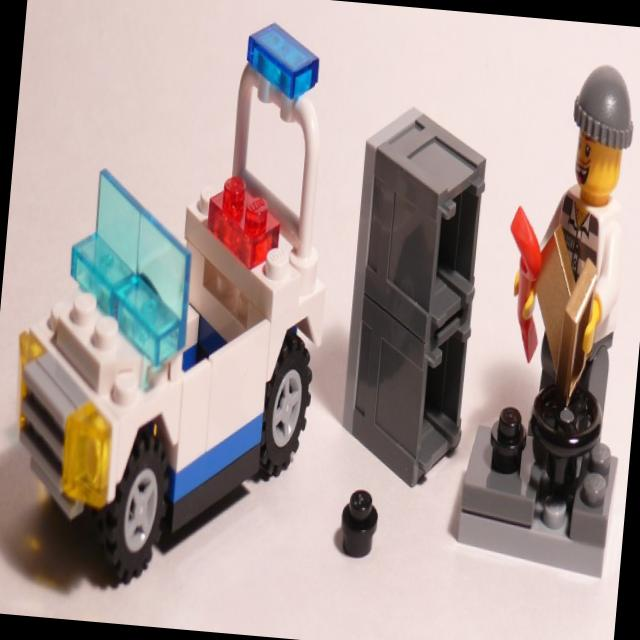Toy: (0, 0, 348, 594), (485, 63, 640, 534), (334, 95, 491, 498), (337, 482, 384, 562)
